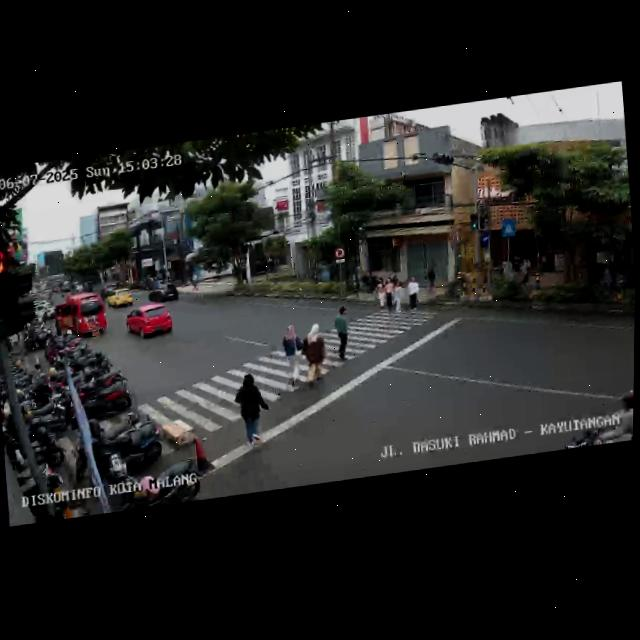car: (51, 291, 107, 344), (123, 299, 174, 346), (146, 278, 180, 304), (105, 287, 134, 310)
motorcycle: (560, 385, 634, 449)
person: (232, 370, 269, 456), (299, 324, 326, 392), (329, 305, 354, 363), (280, 322, 301, 386), (383, 274, 400, 316), (404, 274, 421, 311), (391, 280, 406, 313), (374, 277, 386, 310)
